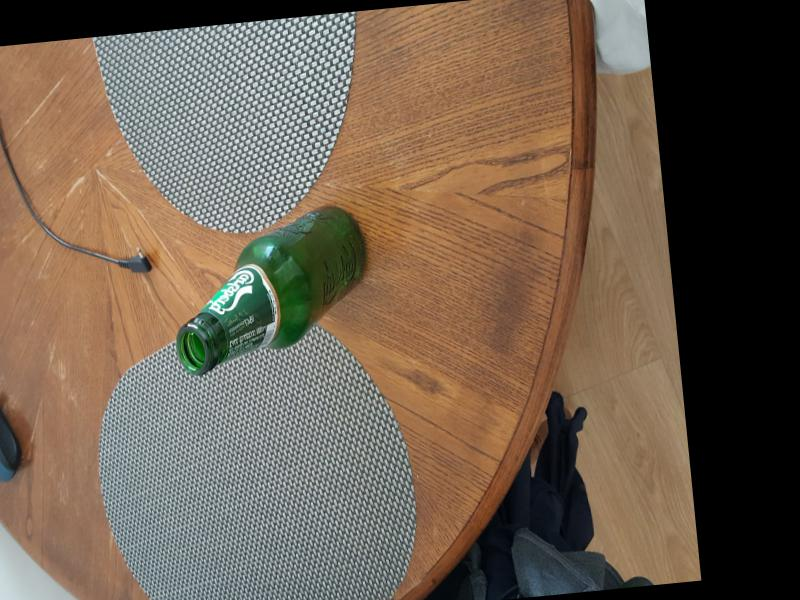Beer: (164, 194, 380, 379)
